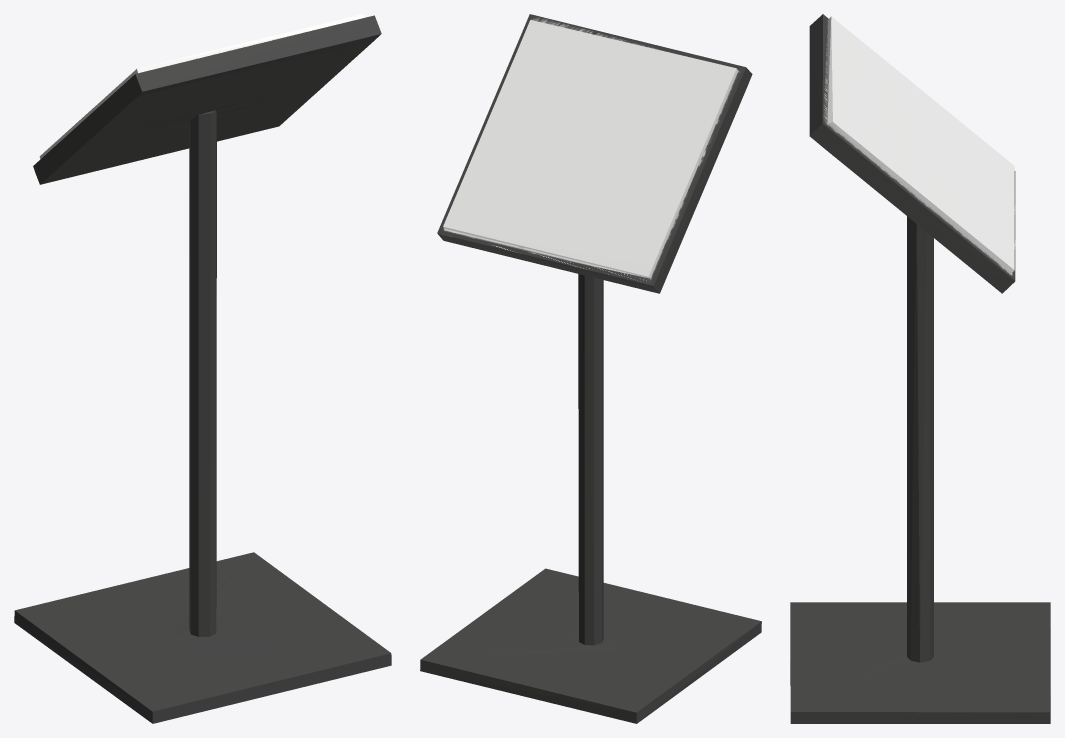
The model's file is infotafel.glb.
3 renders of one model, left to right at view 1: azimuth 30°, elevation 25°; view 2: azimuth 150°, elevation 25°; view 3: azimuth 270°, elevation 25°, orthographic. The views are drawn at different scales.
Parts seen in each view (by area): view 1: 300633_23_06_15_13_20_45_0; view 2: 300633_23_06_15_13_20_45_0; view 3: 300633_23_06_15_13_20_45_0.
Part boxes in pixels (x1,y1,x2,y2): 300633_23_06_15_13_20_45_0: (14, 14, 391, 723); 300633_23_06_15_13_20_45_0: (420, 14, 761, 723); 300633_23_06_15_13_20_45_0: (790, 14, 1050, 723).
Size of the model in its own units: 1.6 by 4.13 by 1.6.
Materials: 1 (1 with a texture image).
